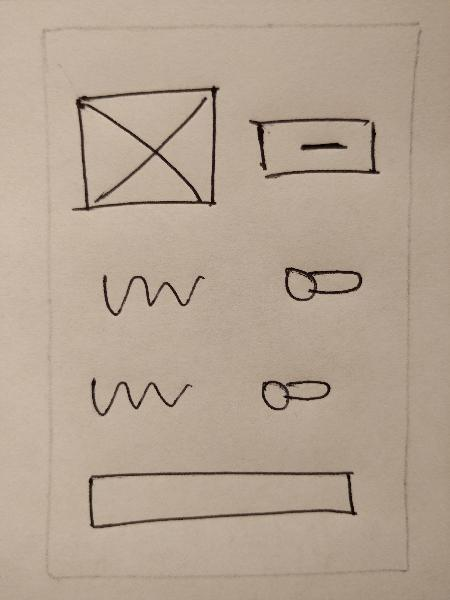button: (245, 111, 385, 183)
image: (69, 85, 223, 220)
switch: (273, 261, 369, 313), (252, 370, 335, 421)
text: (94, 268, 213, 319), (85, 371, 192, 424)
text_input: (82, 467, 361, 535)
